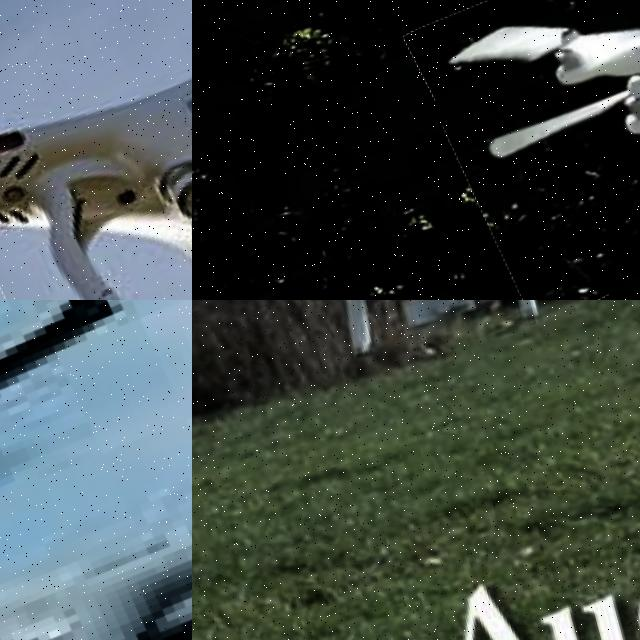drone: (405, 0, 640, 300), (0, 300, 192, 640), (0, 0, 192, 300)
